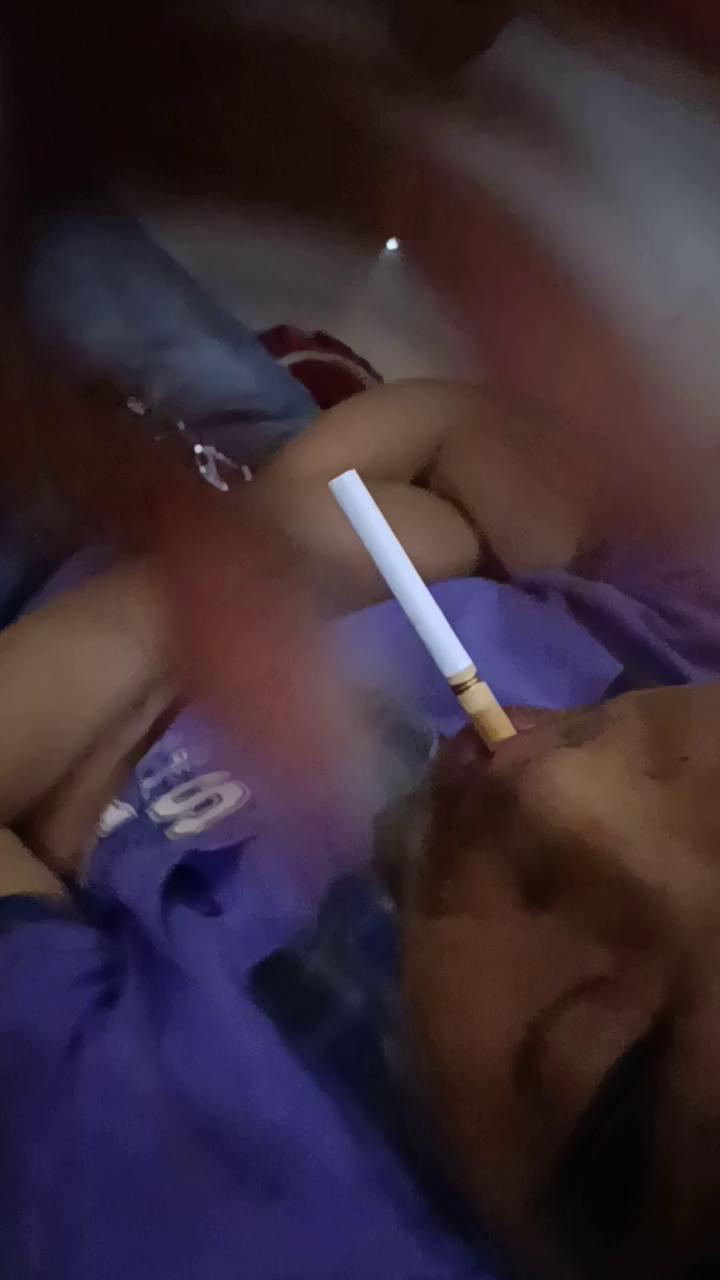smoke: (329, 462, 520, 756)
